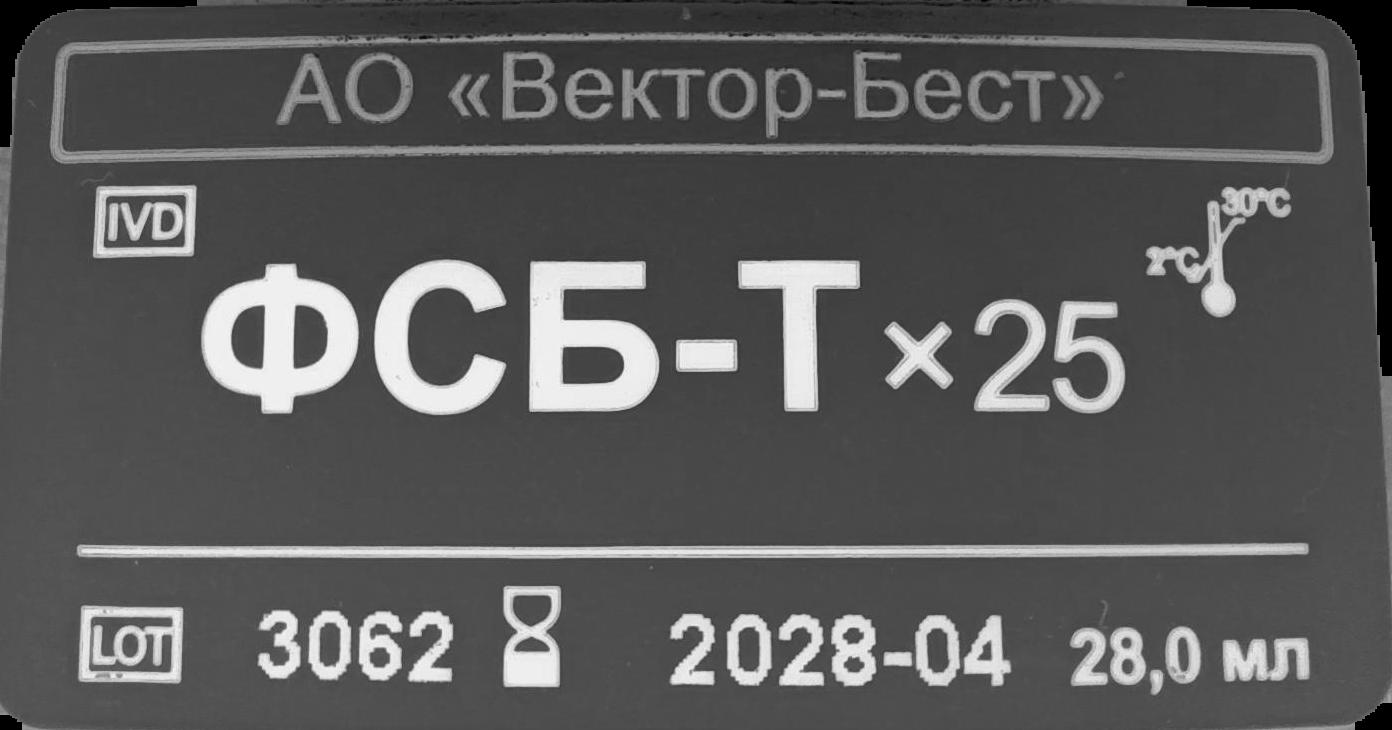something: (1147, 185, 1299, 321), (71, 600, 189, 686), (89, 183, 197, 261), (494, 577, 567, 691)
text: (191, 257, 1130, 425), (270, 46, 1106, 150), (667, 605, 1012, 691), (253, 599, 459, 690), (1067, 620, 1311, 696)
